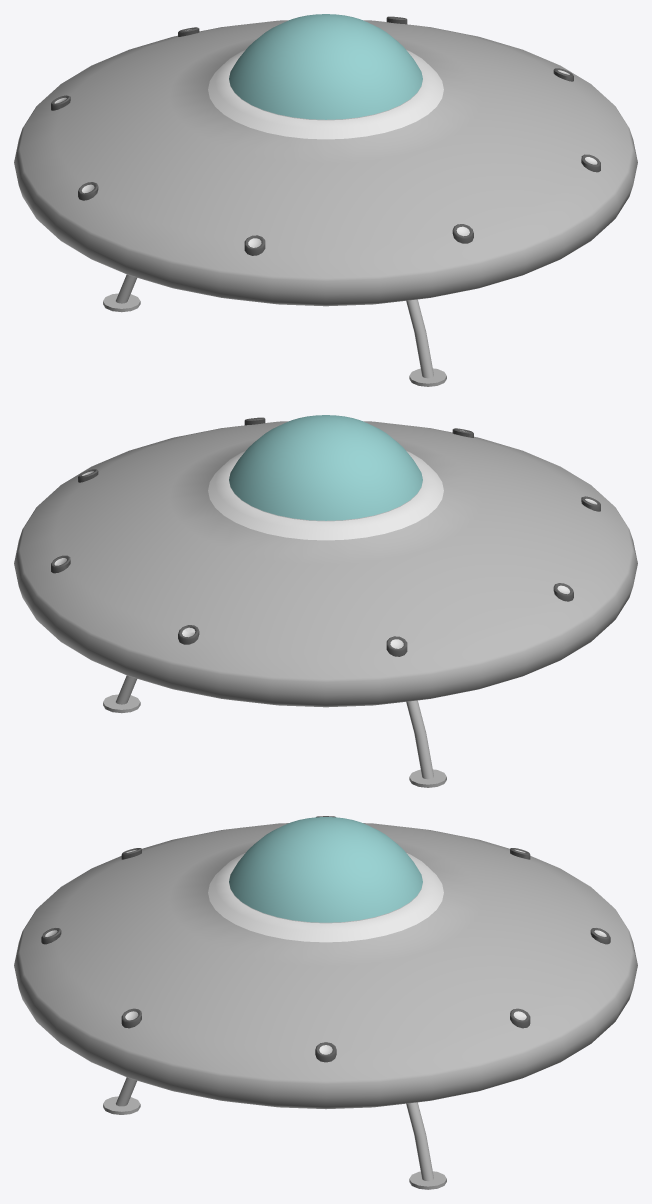
The model's file is saucer.obj.
The picture shows the model from 3 angles, top to bottom: view 1: azimuth 30°, elevation 25°; view 2: azimuth 150°, elevation 25°; view 3: azimuth 270°, elevation 25°; orthographic projection.
Parts seen in each view (by area): view 1: 1352_Flying_Saucer; view 2: 1352_Flying_Saucer; view 3: 1352_Flying_Saucer.
Part boxes in pixels (box(x1,y1,x2,y2)): 1352_Flying_Saucer: box(14, 14, 637, 386); 1352_Flying_Saucer: box(14, 415, 637, 787); 1352_Flying_Saucer: box(14, 816, 637, 1189).
Size of the model in its own units: 89.43 by 44.37 by 89.43.
Materials: 1 (1 with a texture image).
